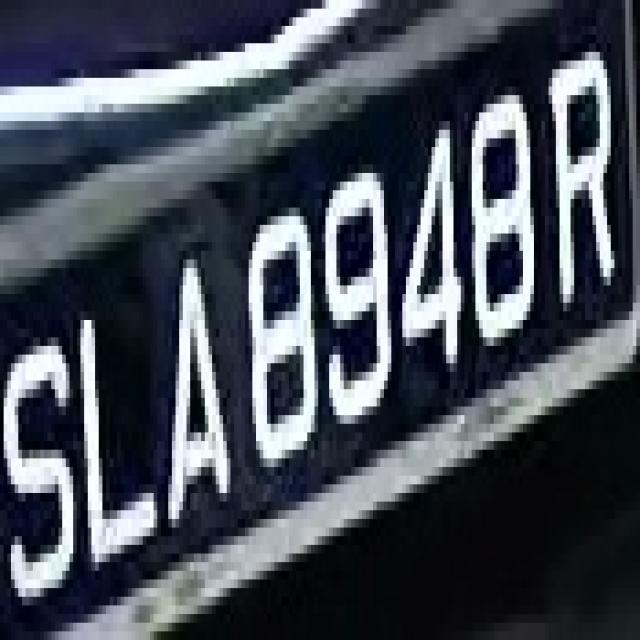4: (391, 78, 483, 406)
8: (453, 61, 545, 380), (234, 199, 329, 476)
9: (314, 121, 402, 441)
A: (143, 207, 234, 554)
L: (77, 277, 161, 571)
R: (542, 26, 626, 329)
S: (7, 285, 77, 640)
